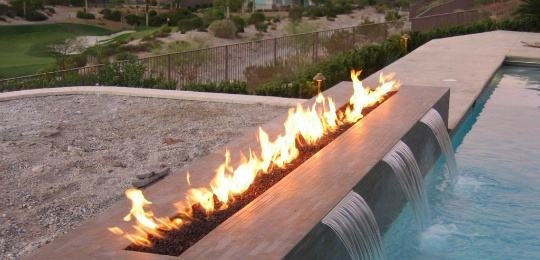fire: (189, 133, 271, 214), (258, 94, 331, 168), (106, 181, 183, 245), (338, 69, 397, 123)
